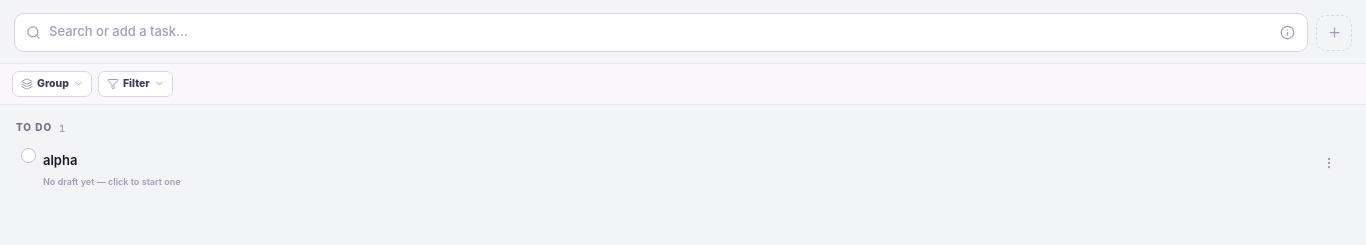
Test case: the To-do rail search box › offers the capture as the answer when nothing matches
Type "buy milk" into the field with placeholder "Search or add a task…" at (659, 33), box [49, 23, 1269, 42]
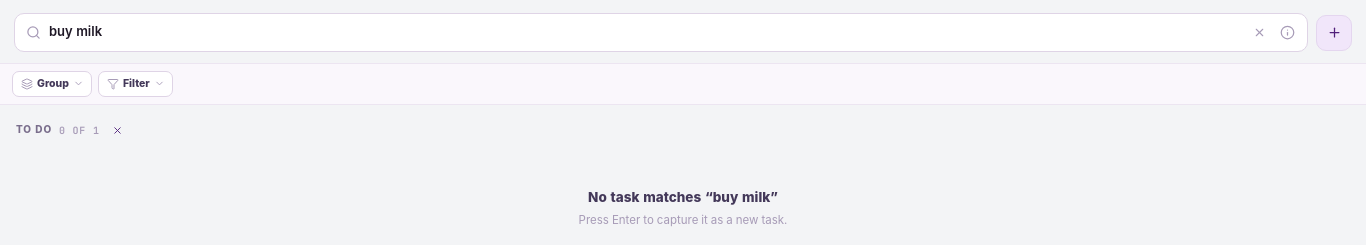
Result: the text "No task matches “buy milk”" is shown at [588, 188, 778, 207]
Result: the text "Press Enter to capture it as a new task." is shown at [579, 212, 787, 228]
